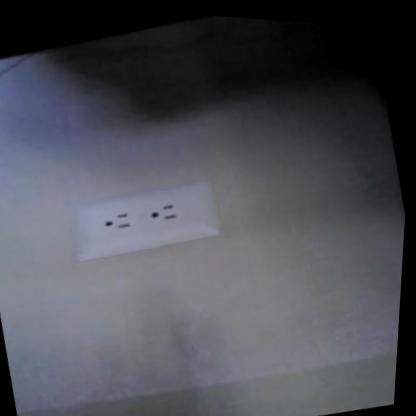OUTLET: (61, 166, 226, 273)
